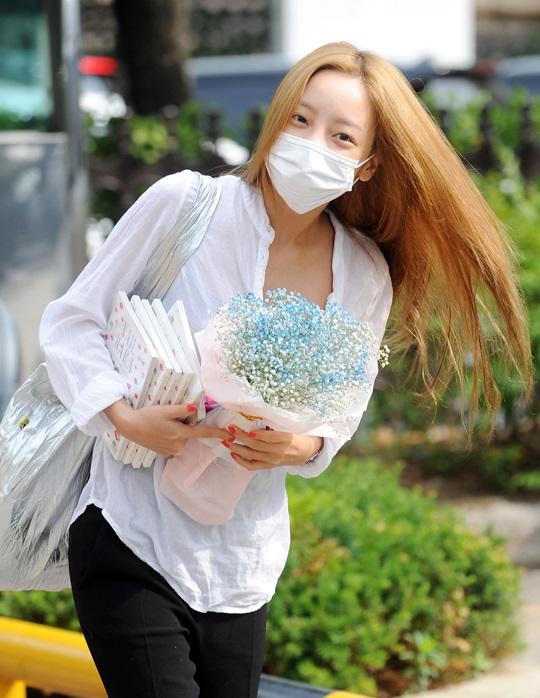OK: (266, 90, 375, 207)
